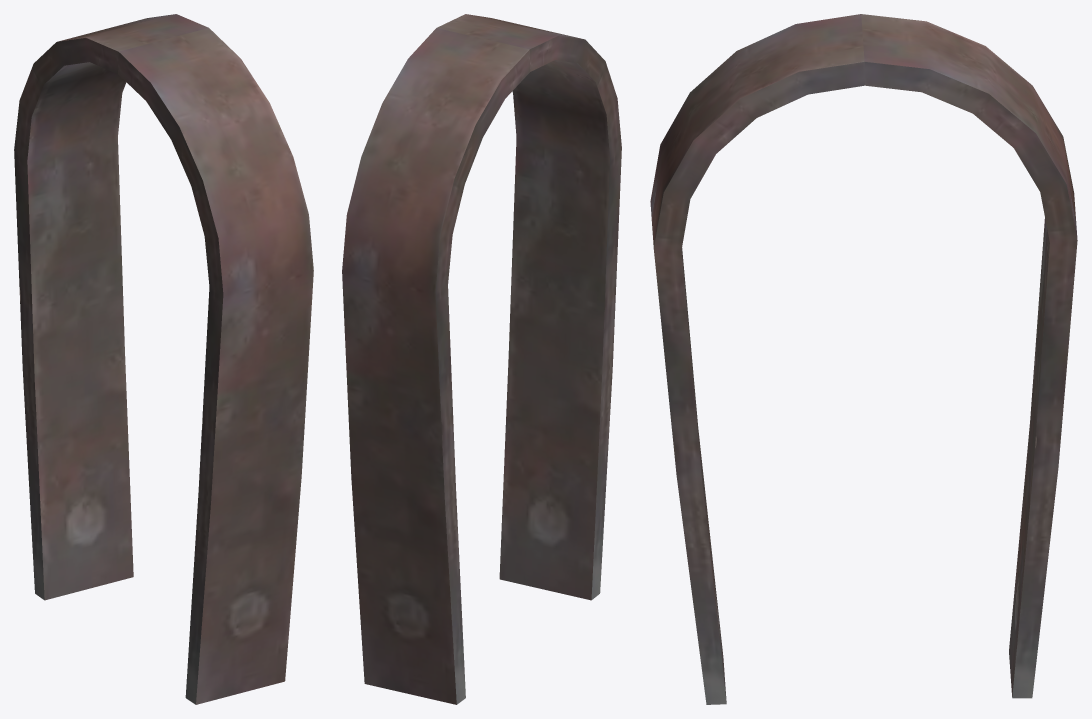
3 renders of one model, left to right at view 1: azimuth 30°, elevation 25°; view 2: azimuth 150°, elevation 25°; view 3: azimuth 270°, elevation 25°, orthographic. The views are drawn at different scales.
Visible parts, largest first — view 1: SM_Village_Hitching_Post_07_LOD0; view 2: SM_Village_Hitching_Post_07_LOD0; view 3: SM_Village_Hitching_Post_07_LOD0.
Part boxes in pixels (x1,y1,x2,y2): SM_Village_Hitching_Post_07_LOD0: [14, 14, 313, 704]; SM_Village_Hitching_Post_07_LOD0: [342, 14, 621, 704]; SM_Village_Hitching_Post_07_LOD0: [650, 14, 1077, 704].
Size of the model in its own units: 0.0873 by 0.4829 by 0.2911.
1 material, 1 textured.
